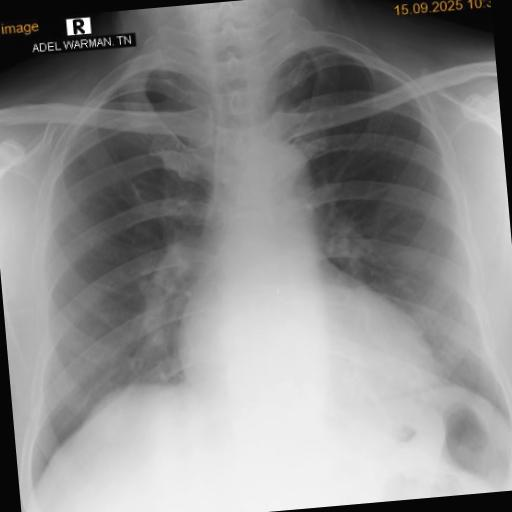kardiomegali: (0, 5, 512, 488)
